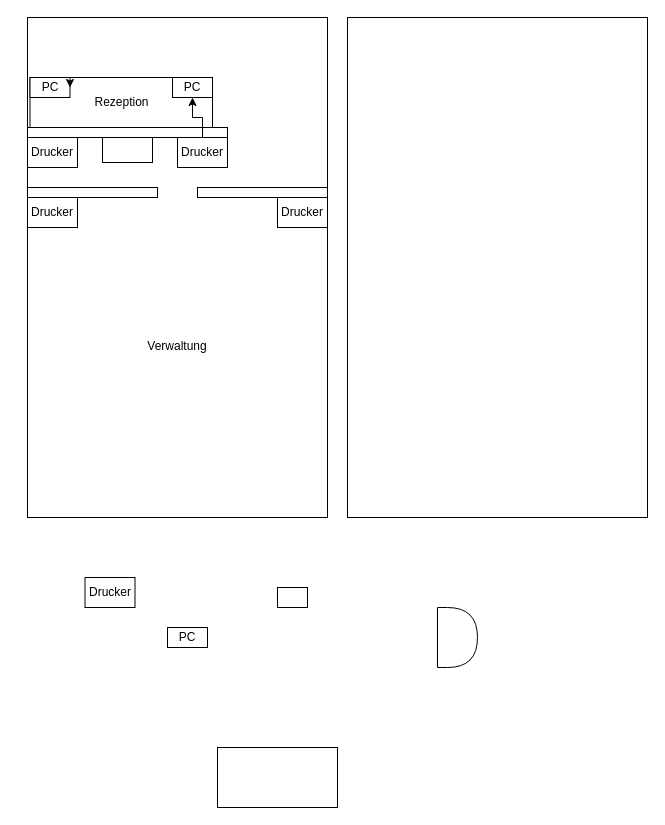
This 665x825 diagram has some shape labels left out. Each missing label, with the centre of its shape:
LAN: point 292,597
Switch: point 127,149
Tür: point 457,637
